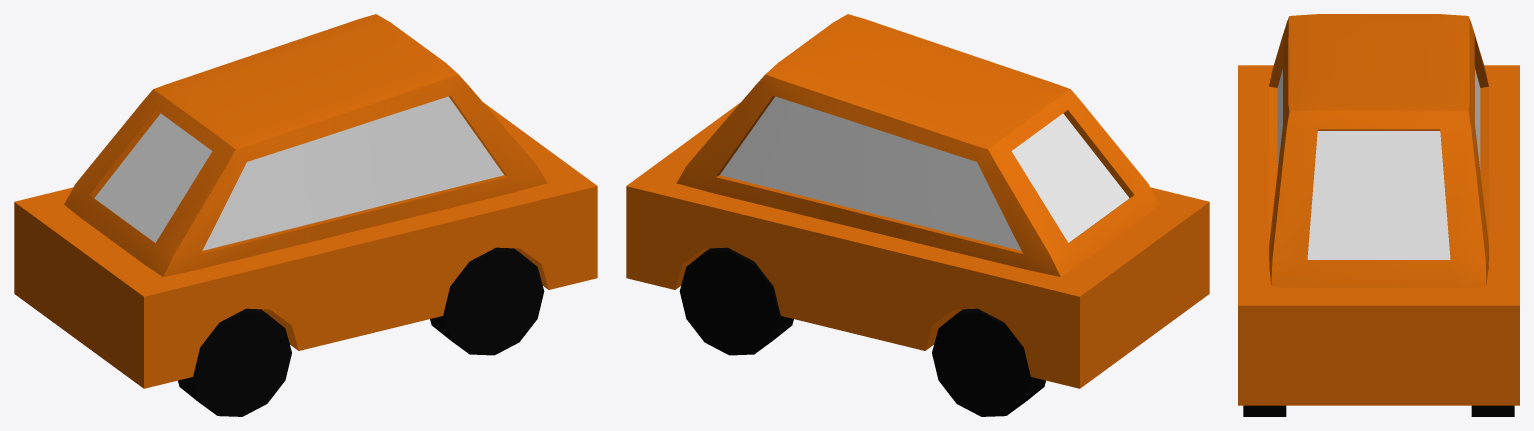
Rendered from car.fbx.
The picture shows the model from 3 angles, left to right: view 1: azimuth 30°, elevation 25°; view 2: azimuth 150°, elevation 25°; view 3: azimuth 270°, elevation 25°; orthographic projection. The views are drawn at different scales.
Parts seen in each view (by area): view 1: pCube3; view 2: pCube3; view 3: pCube3.
Boxes of the visible parts, x1=… form: pCube3: x1=14, y1=14, x2=597, y2=416; pCube3: x1=626, y1=14, x2=1209, y2=416; pCube3: x1=1238, y1=14, x2=1519, y2=416.
Size of the model in its own units: 5.96 by 3.39 by 2.95.
